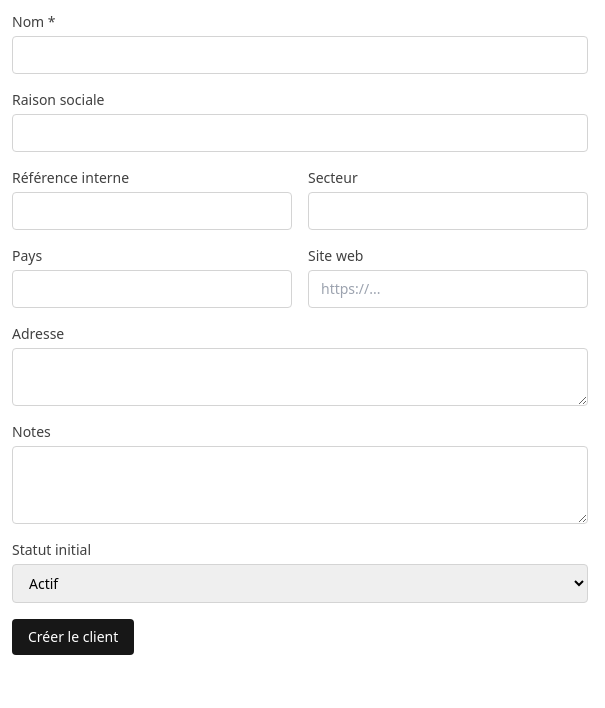
Test: CreateClientAccountForm › displays the backend validation error message returned by the server action
This screenshot has width=605, height=708.
Type "x" into the field labelled "Nom *".
click(300, 55); type("x")  # box [12,36,588,74]
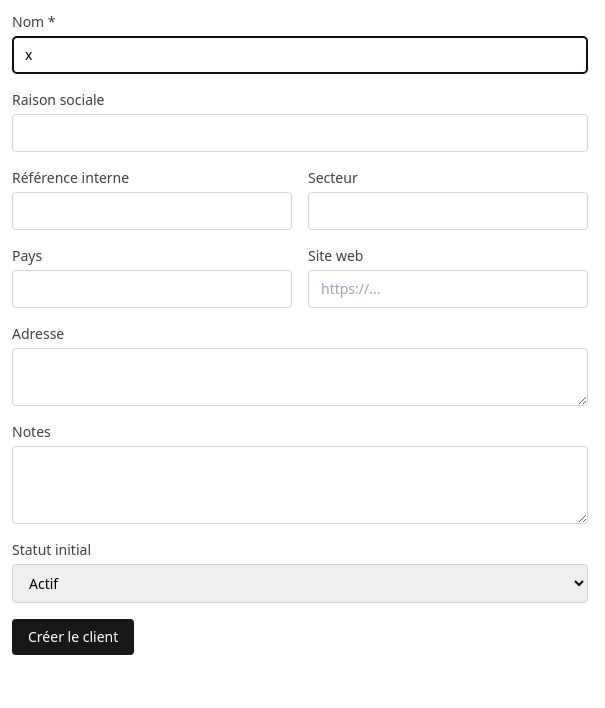
Click the button "Créer le client".
click(73, 637)  # box [12,619,134,655]
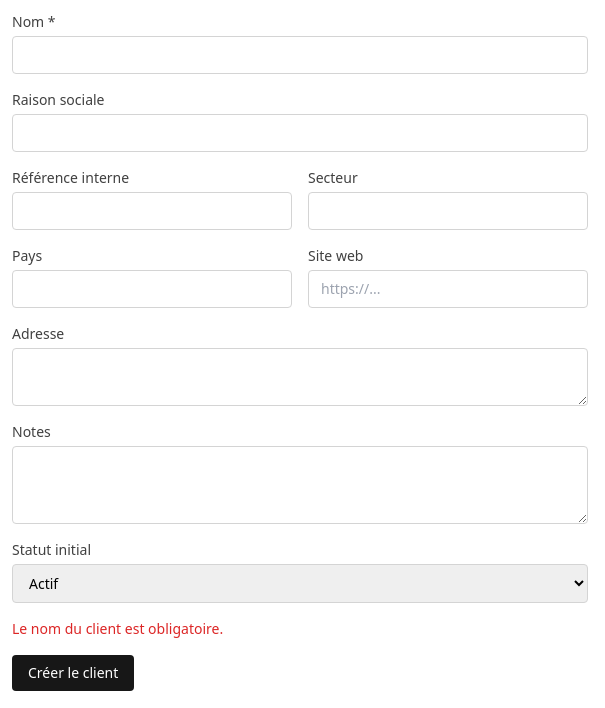
Result: the message reads "Le nom du client est obligatoire." at [12,619,223,638]
